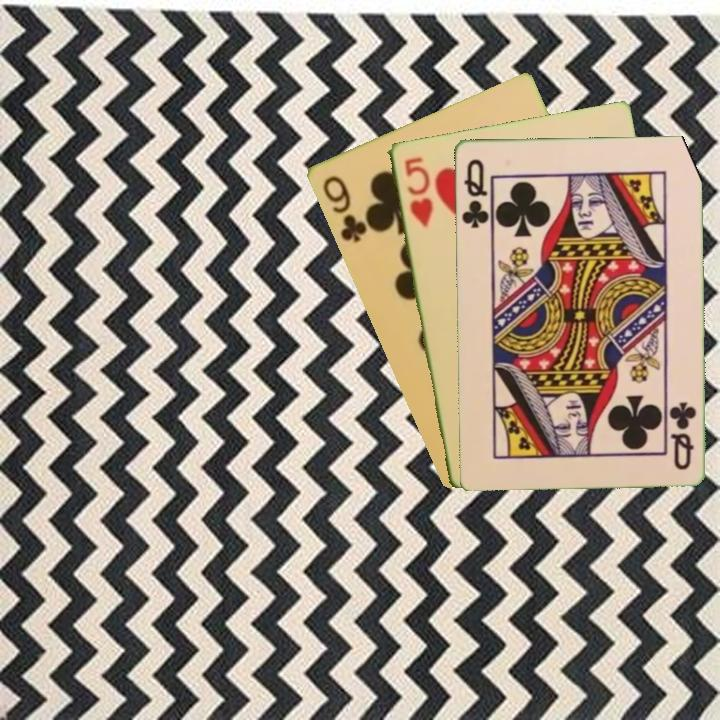5h: (400, 153, 435, 230)
9c: (318, 171, 370, 245)
Qc: (457, 155, 492, 231), (667, 397, 699, 472)
